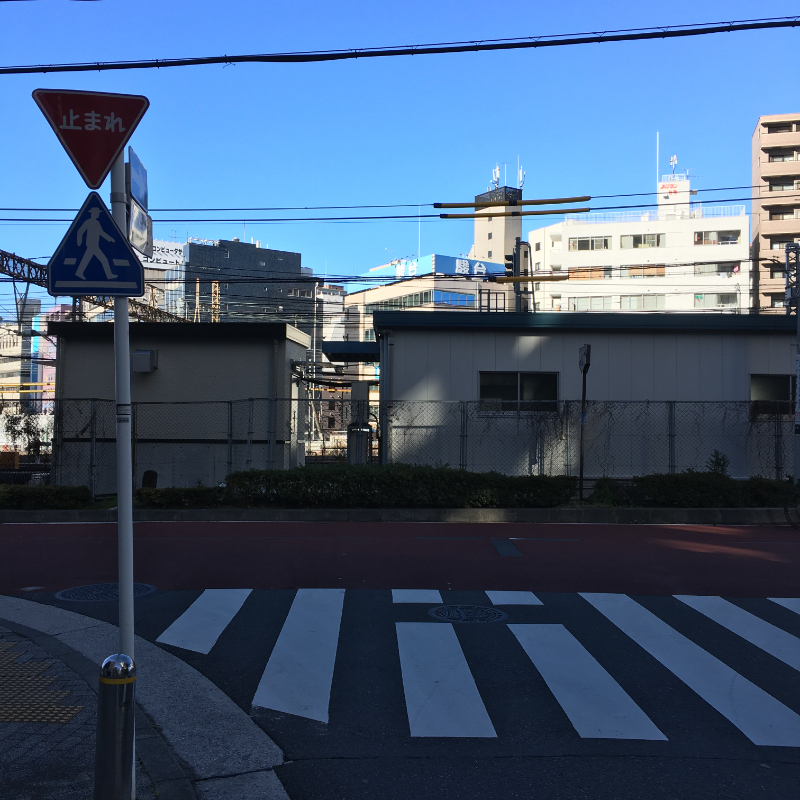STOP: (27, 83, 153, 191)
